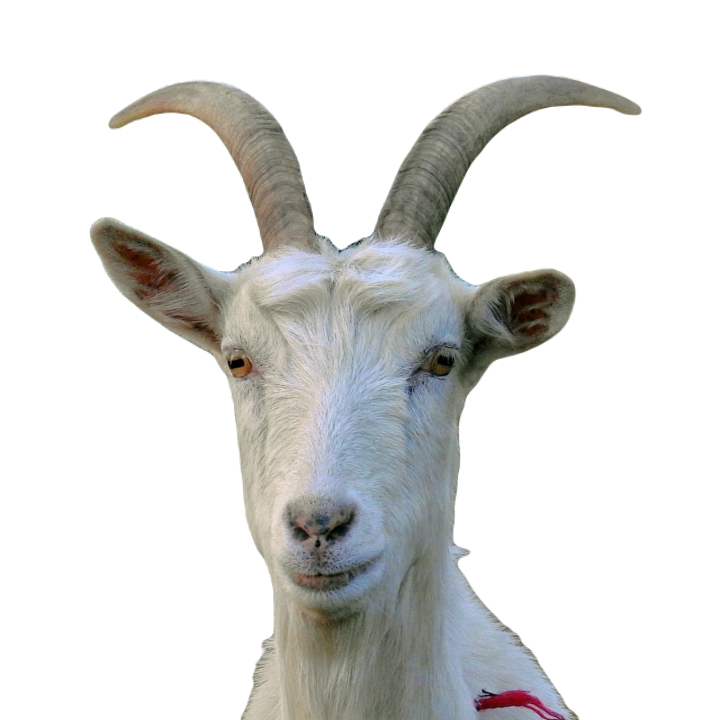Goat: (88, 70, 641, 719)
